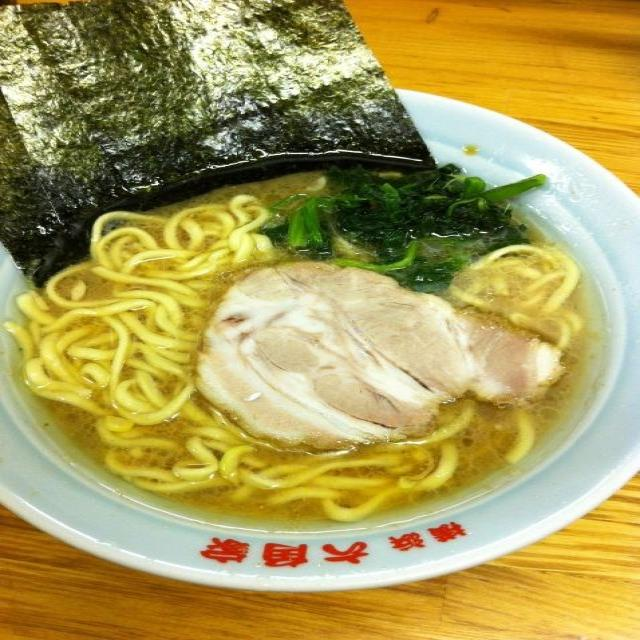面条主食: (0, 76, 640, 588)
